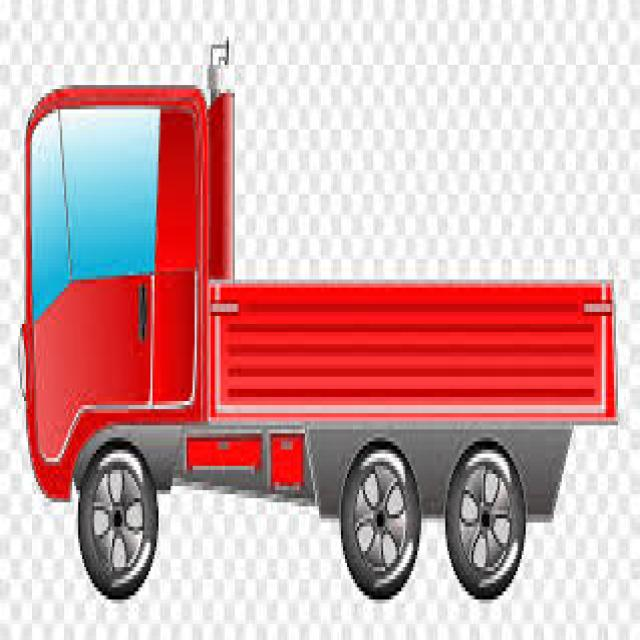truck: (23, 71, 616, 604)
